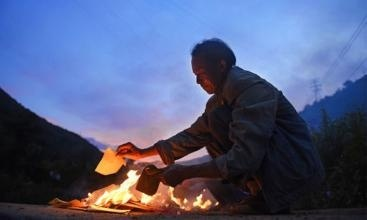fire: (71, 143, 215, 209)
